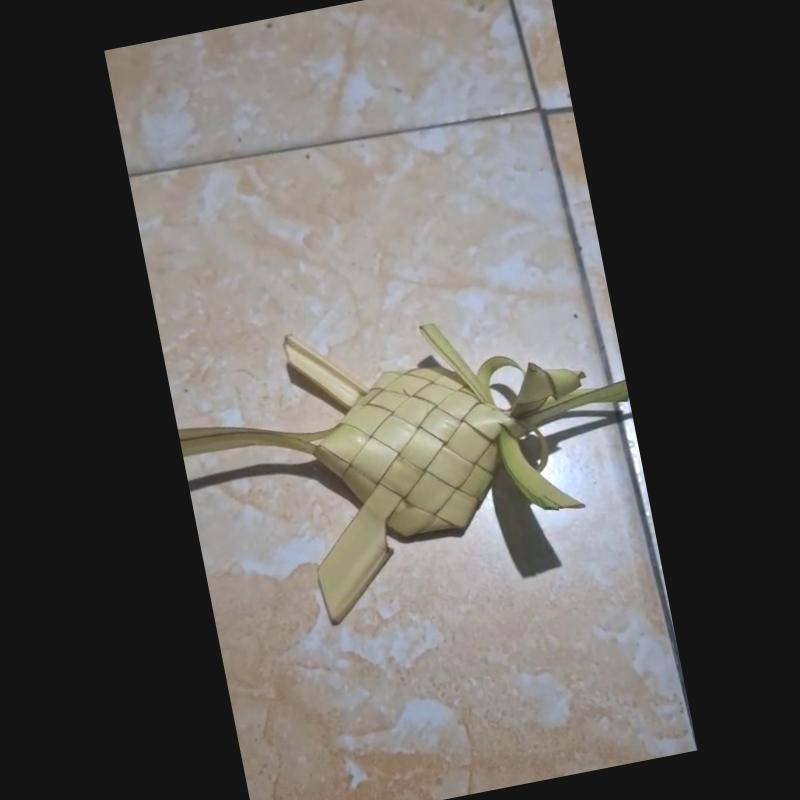Tipat Dampulan: (177, 318, 626, 638)
